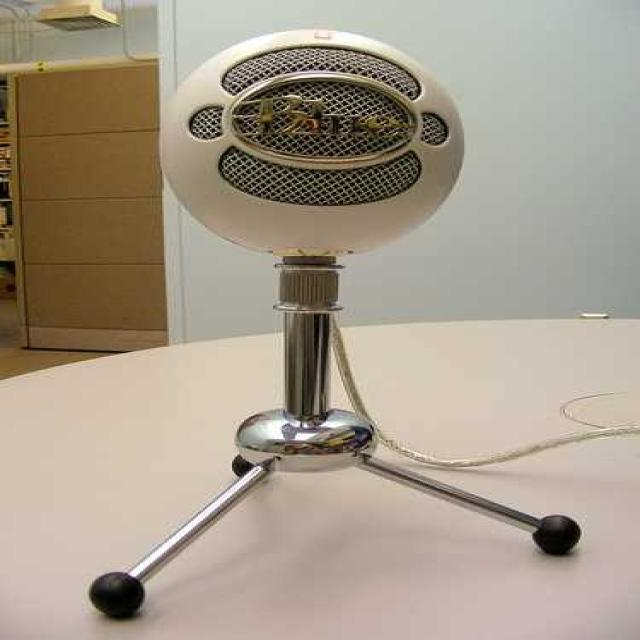microphone: (168, 34, 458, 254)
